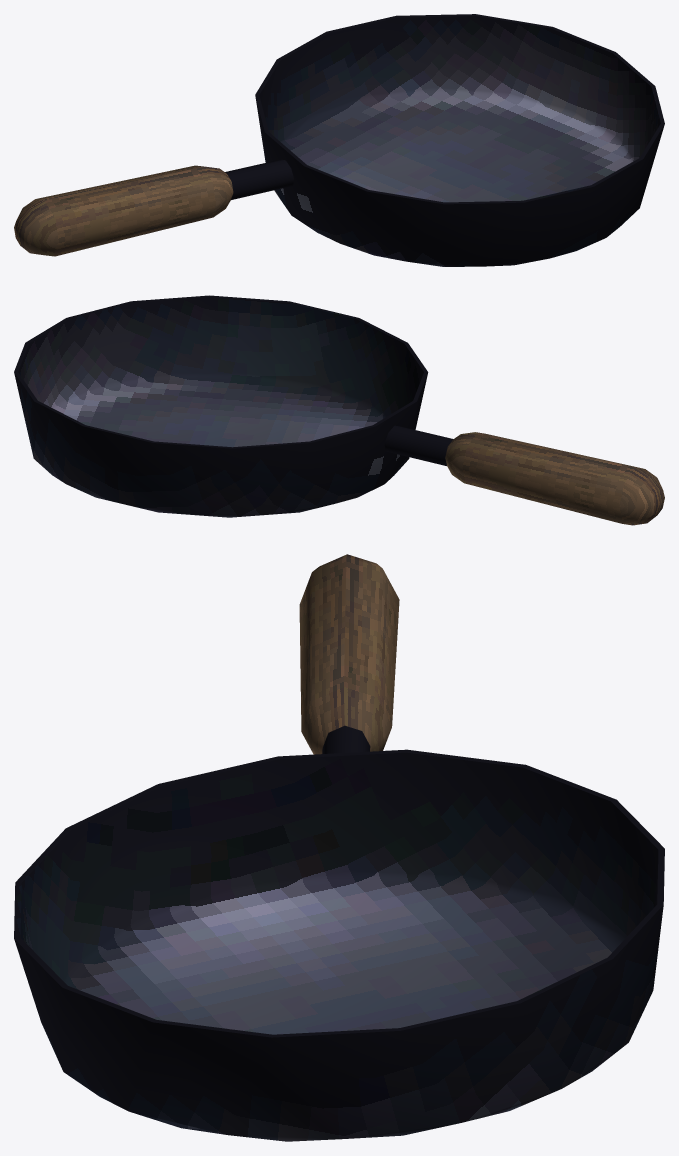
Rendered from sarten.obj.
The picture shows the model from 3 angles, top to bottom: view 1: azimuth 30°, elevation 25°; view 2: azimuth 150°, elevation 25°; view 3: azimuth 270°, elevation 25°; orthographic projection. The views are drawn at different scales.
Visible parts, largest first — view 1: DolCook.001; view 2: DolCook.001; view 3: DolCook.001.
Boxes of the visible parts, x1=… form: DolCook.001: x1=14, y1=14, x2=664, y2=266; DolCook.001: x1=14, y1=295, x2=664, y2=525; DolCook.001: x1=14, y1=554, x2=664, y2=1141.
Size of the model in its own units: 6.93 by 1.04 by 3.94.
2 materials, 2 textured.
